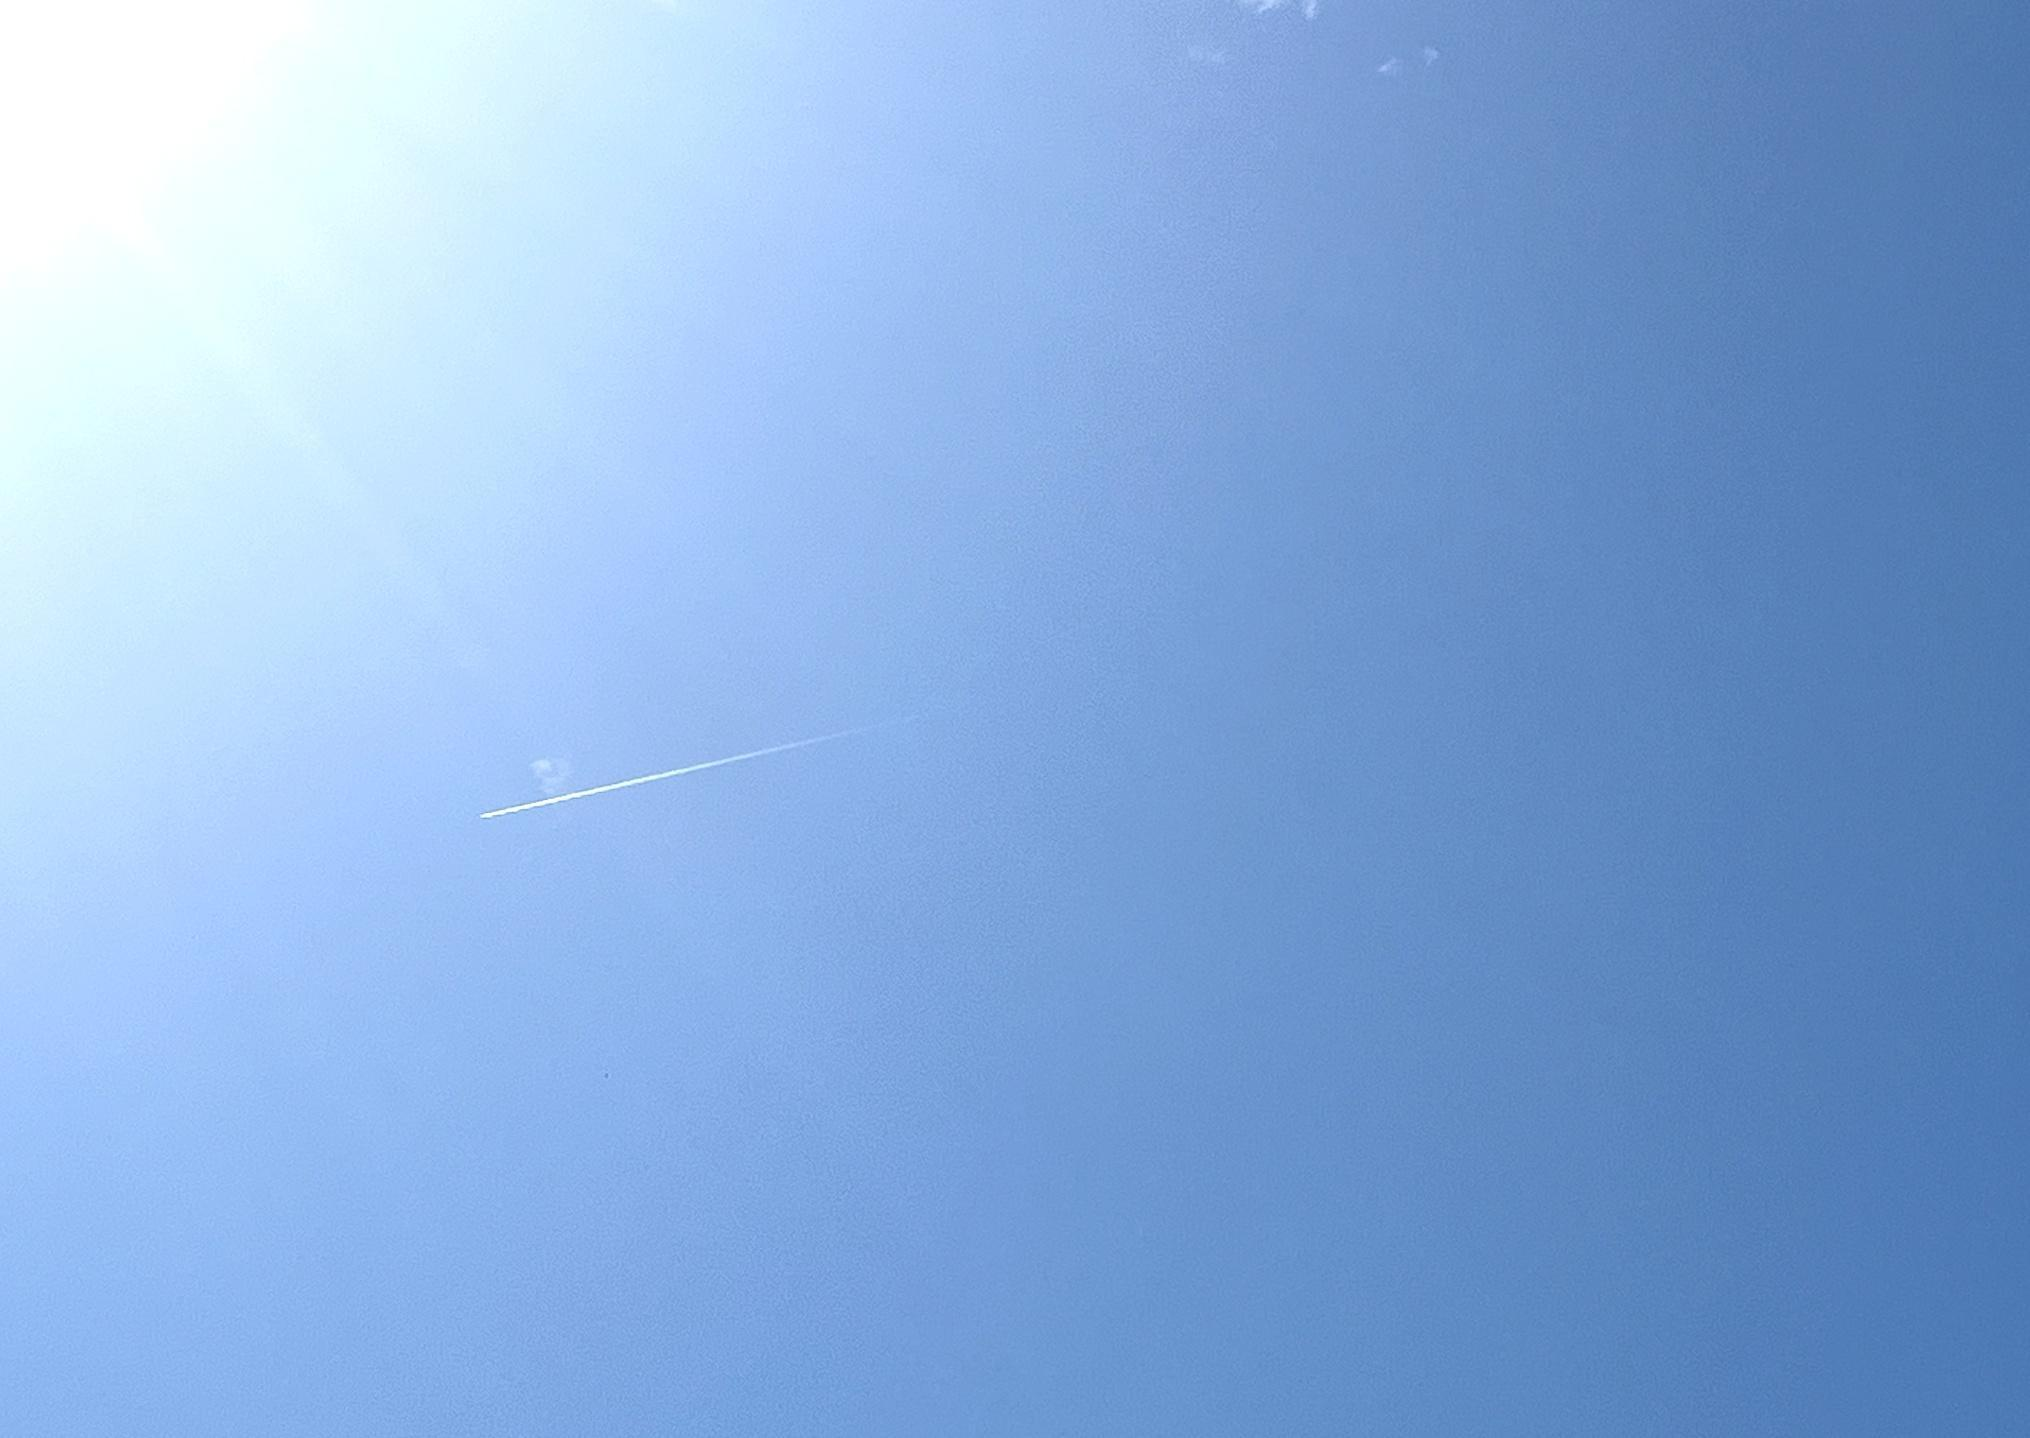Plane: (453, 716, 887, 833)
